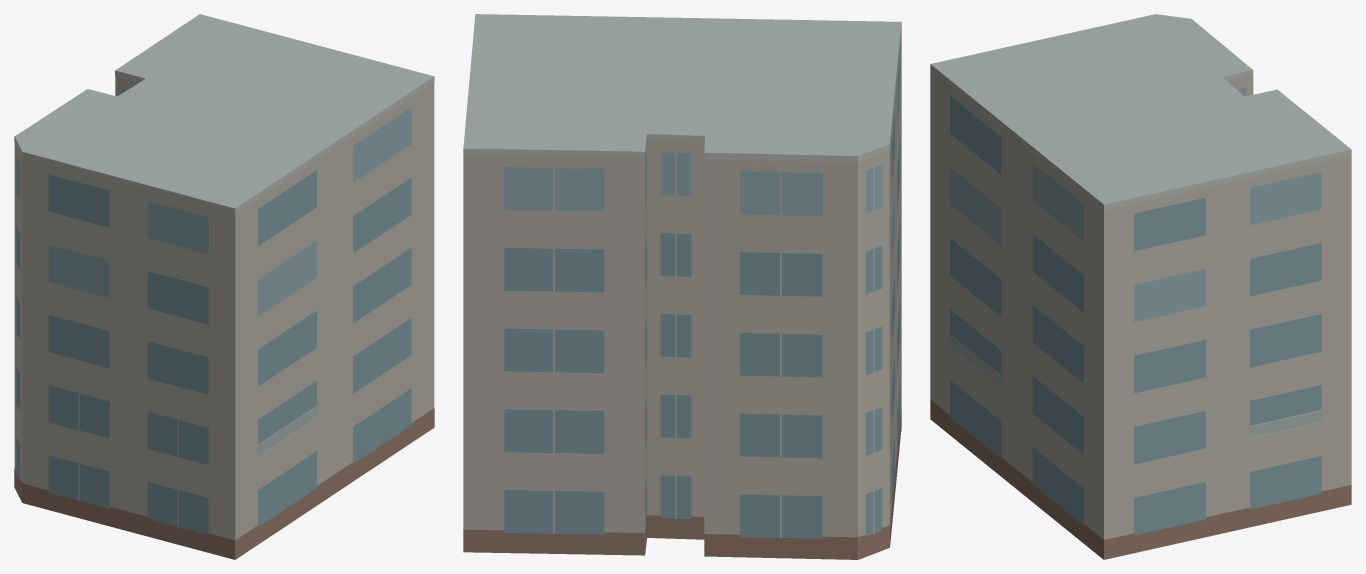
Rendered from survey-upis-32704078.glb.
The picture shows the model from 3 angles, left to right: view 1: azimuth 30°, elevation 25°; view 2: azimuth 150°, elevation 25°; view 3: azimuth 270°, elevation 25°; orthographic projection. The views are drawn at different scales.
Parts seen in each view (by area): view 1: survey-upis-32704078.tmp; view 2: survey-upis-32704078.tmp; view 3: survey-upis-32704078.tmp.
Part boxes in pixels (<box>): survey-upis-32704078.tmp: <box>14,14,434,559</box>; survey-upis-32704078.tmp: <box>463,14,901,559</box>; survey-upis-32704078.tmp: <box>930,14,1351,559</box>.
Size of the model in its own units: 17.56 by 15.25 by 16.4.
